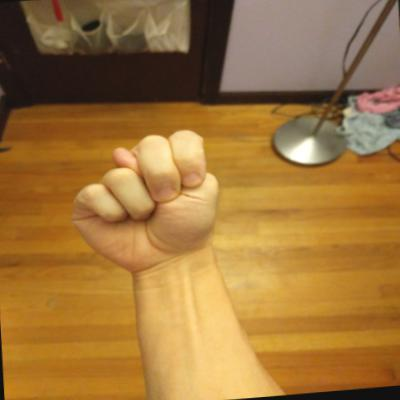hand: (60, 125, 232, 281)
